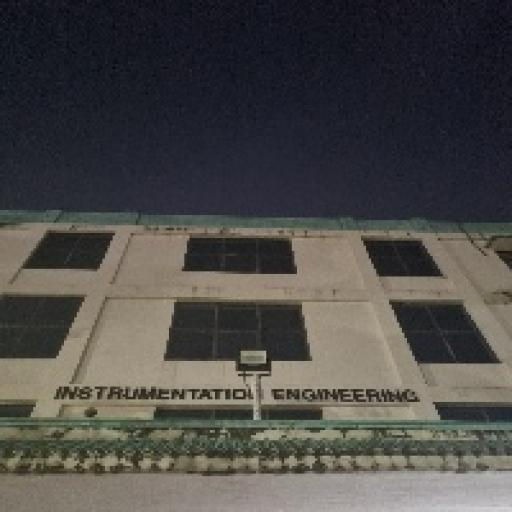Not Working: (227, 341, 281, 386)
